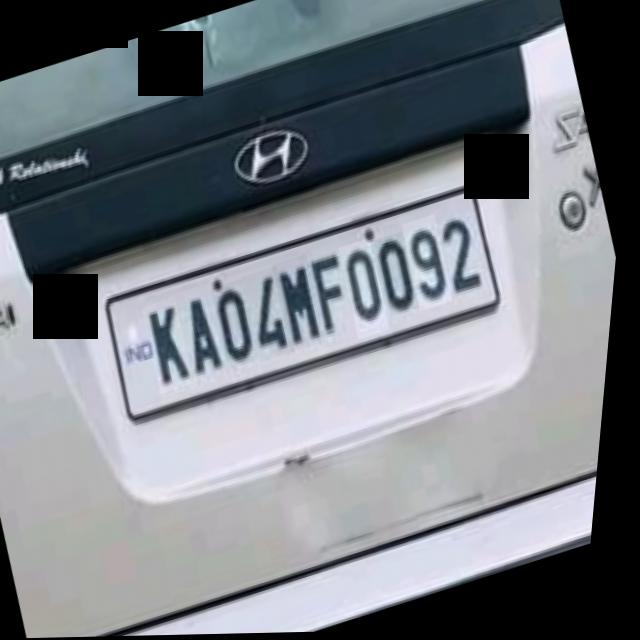0: (337, 239, 403, 341), (211, 278, 272, 370), (373, 233, 430, 319)
4: (241, 267, 307, 364)
9: (400, 215, 464, 313)
A: (174, 287, 238, 383)
F: (305, 248, 367, 337)
K: (141, 297, 207, 395)
M: (270, 255, 338, 354)
